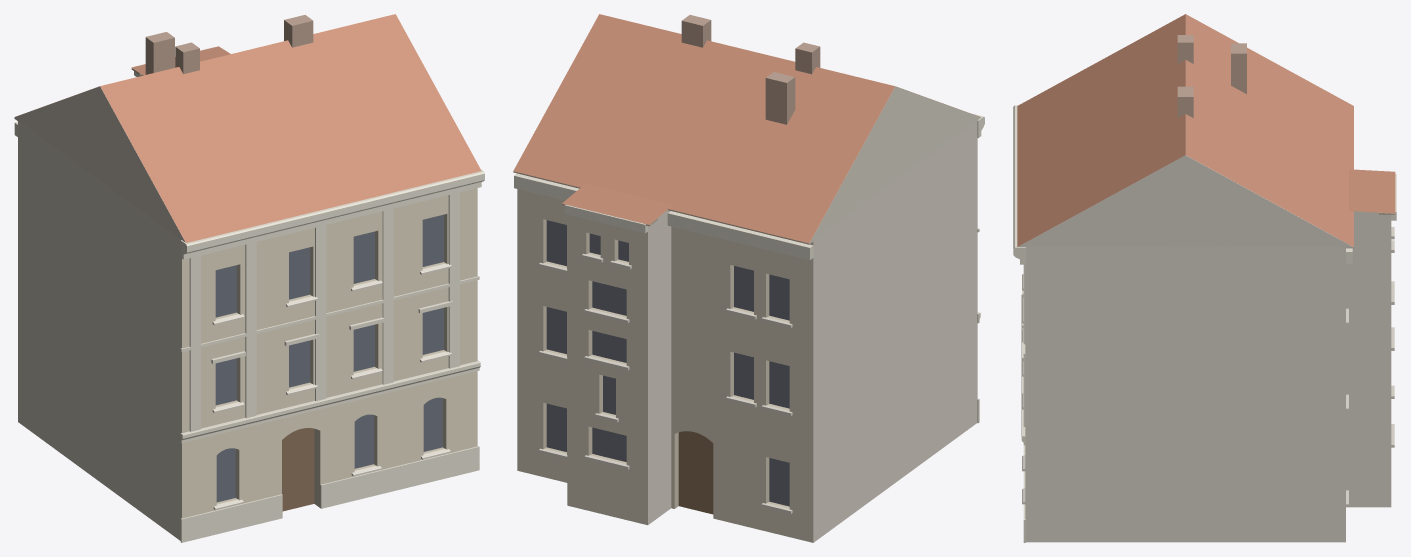
3 views of the same model, side by side, from view 1: azimuth 30°, elevation 25°; view 2: azimuth 150°, elevation 25°; view 3: azimuth 270°, elevation 25° (orthographic). The views are drawn at different scales.
Parts seen in each view (by area): view 1: CP_1216_Masonry, CP_1216_Roof, CP_1216_Gable_L_gable, CP_1216_Cornice_main_0, CP_1216_Cornice_plinth_1, CP_1216_Cornice_string_0, CP_1216_Cornice_plinth_0, CP_1216_Pilaster_0, CP_1216_Pilaster_1, CP_1216_Pilaster_3, CP_1216_Pilaster_2, CP_1216_Pilaster_4 (+4 smaller); view 2: CP_1216_Masonry, CP_1216_Roof, CP_1216_Gable_L_gable, CP_1216_Cornice_rear_main2, CP_1216_WingRoof_Tower, CP_1216_Chimney_1, CP_1216_Cornice_rear_main, CP_1216_Chimney_2, CP_1216_Cornice_tower_cap, CP_1216_Chimney_0; view 3: CP_1216_Masonry, CP_1216_Roof, CP_1216_Gable_R_gable, CP_1216_WingRoof_Tower, CP_1216_Cornice_main_0, CP_1216_Chimney_1, CP_1216_Chimney_2, CP_1216_Chimney_0.
Boxes of the visible parts, x1=… form: CP_1216_Masonry: x1=18, y1=73, x2=477, y2=540; CP_1216_Roof: x1=15, y1=14, x2=481, y2=242; CP_1216_Gable_L_gable: x1=14, y1=86, x2=185, y2=242; CP_1216_Cornice_main_0: x1=180, y1=169, x2=484, y2=259; CP_1216_Cornice_plinth_1: x1=320, y1=446, x2=479, y2=508; CP_1216_Cornice_string_0: x1=180, y1=360, x2=480, y2=442; CP_1216_Cornice_plinth_0: x1=180, y1=494, x2=282, y2=542; CP_1216_Pilaster_0: x1=189, y1=255, x2=200, y2=431; CP_1216_Pilaster_1: x1=245, y1=242, x2=256, y2=418; CP_1216_Pilaster_3: x1=382, y1=208, x2=393, y2=384; CP_1216_Pilaster_2: x1=315, y1=225, x2=326, y2=401; CP_1216_Pilaster_4: x1=448, y1=192, x2=459, y2=368; CP_1216_Masonry: x1=517, y1=121, x2=977, y2=542; CP_1216_Roof: x1=513, y1=14, x2=979, y2=243; CP_1216_Gable_L_gable: x1=802, y1=86, x2=980, y2=243; CP_1216_Cornice_rear_main2: x1=667, y1=211, x2=813, y2=260; CP_1216_WingRoof_Tower: x1=562, y1=183, x2=672, y2=224; CP_1216_Chimney_1: x1=765, y1=72, x2=795, y2=124; CP_1216_Cornice_rear_main: x1=514, y1=173, x2=578, y2=200; CP_1216_Chimney_2: x1=681, y1=15, x2=711, y2=47; CP_1216_Cornice_tower_cap: x1=564, y1=204, x2=648, y2=233; CP_1216_Chimney_0: x1=795, y1=42, x2=820, y2=74; CP_1216_Masonry: x1=1025, y1=212, x2=1391, y2=542; CP_1216_Roof: x1=1017, y1=14, x2=1353, y2=246; CP_1216_Gable_R_gable: x1=1018, y1=155, x2=1353, y2=247; CP_1216_WingRoof_Tower: x1=1349, y1=169, x2=1395, y2=213; CP_1216_Cornice_main_0: x1=1013, y1=105, x2=1025, y2=264; CP_1216_Chimney_1: x1=1231, y1=43, x2=1246, y2=93; CP_1216_Chimney_2: x1=1177, y1=86, x2=1193, y2=117; CP_1216_Chimney_0: x1=1177, y1=35, x2=1193, y2=63.
Bounding box in the file's own units: 12.6 × 16.7 × 14.35.
